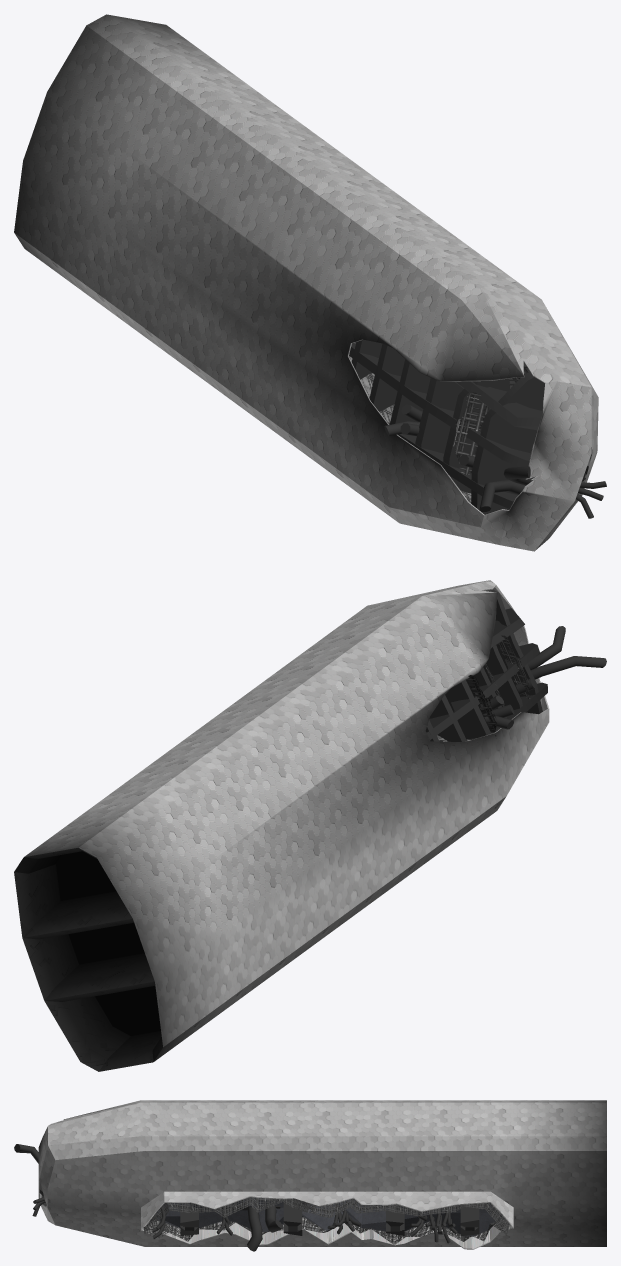
Rendered from spaceship_broken_engine.gltf.
The picture shows the model from 3 angles, top to bottom: view 1: azimuth 30°, elevation 25°; view 2: azimuth 150°, elevation 25°; view 3: azimuth 270°, elevation 25°; orthographic projection. The views are drawn at different scales.
Visible parts, largest first — view 1: Ship.Body.Engine.Broken, Сarcass.067, Сarcass.063, Сarcass.069, Сarcass.064, Сarcass.068, Сarcass.071, Wires.020, Сarcass.065, Сarcass.070; view 2: Ship.Body.Engine.Broken, Сarcass.063, Сarcass.070, Сarcass.067, Сarcass.068, Wire.057, Сarcass.071; view 3: Ship.Body.Engine.Broken, Ship.Body.Engine.Broken.001, Beam.056, Beam.061, Wire.052, Beam.055, Beam.057, Wire.051.
Part boxes in pixels (<box>): Ship.Body.Engine.Broken: <box>14,14,598,551</box>; Сarcass.067: <box>471,371,544,514</box>; Сarcass.063: <box>349,343,585,481</box>; Сarcass.069: <box>415,378,463,453</box>; Сarcass.064: <box>455,381,542,430</box>; Сarcass.068: <box>443,378,509,493</box>; Сarcass.071: <box>369,343,405,411</box>; Wires.020: <box>453,392,489,474</box>; Сarcass.065: <box>387,421,517,508</box>; Сarcass.070: <box>389,359,430,424</box>; Ship.Body.Engine.Broken: <box>14,580,549,1071</box>; Сarcass.063: <box>426,643,539,739</box>; Сarcass.070: <box>447,679,491,739</box>; Сarcass.067: <box>486,589,542,714</box>; Сarcass.068: <box>485,644,522,709</box>; Wire.057: <box>531,656,606,679</box>; Сarcass.071: <box>429,693,467,741</box>; Ship.Body.Engine.Broken: <box>38,1100,606,1249</box>; Ship.Body.Engine.Broken.001: <box>143,1197,509,1244</box>; Beam.056: <box>283,1199,302,1235</box>; Beam.061: <box>460,1204,479,1235</box>; Wire.052: <box>247,1207,262,1251</box>; Beam.055: <box>180,1207,198,1235</box>; Beam.057: <box>386,1210,404,1235</box>; Wire.051: <box>265,1205,283,1232</box>.
Bounding box in the file's own units: 16.33 × 17.62 × 63.65.
9 materials, 6 textured.
